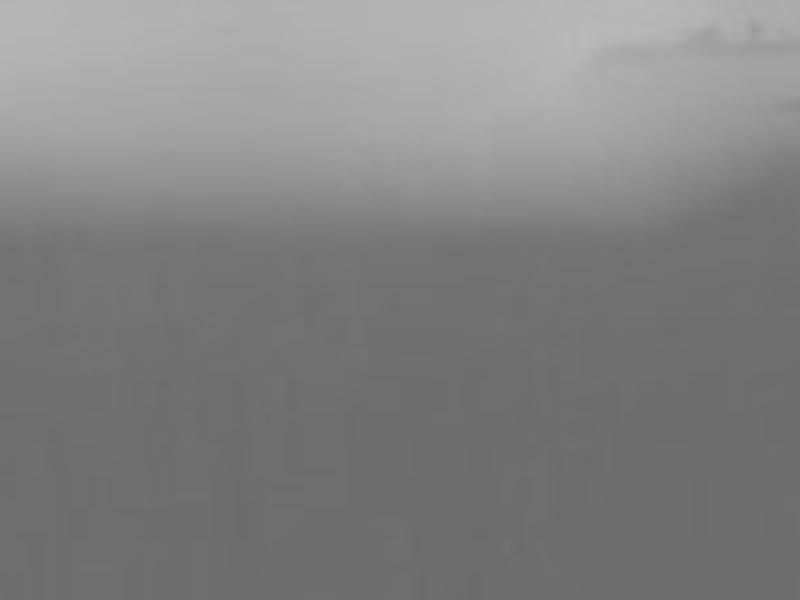defect: (687, 30, 726, 48), (745, 21, 767, 44)
